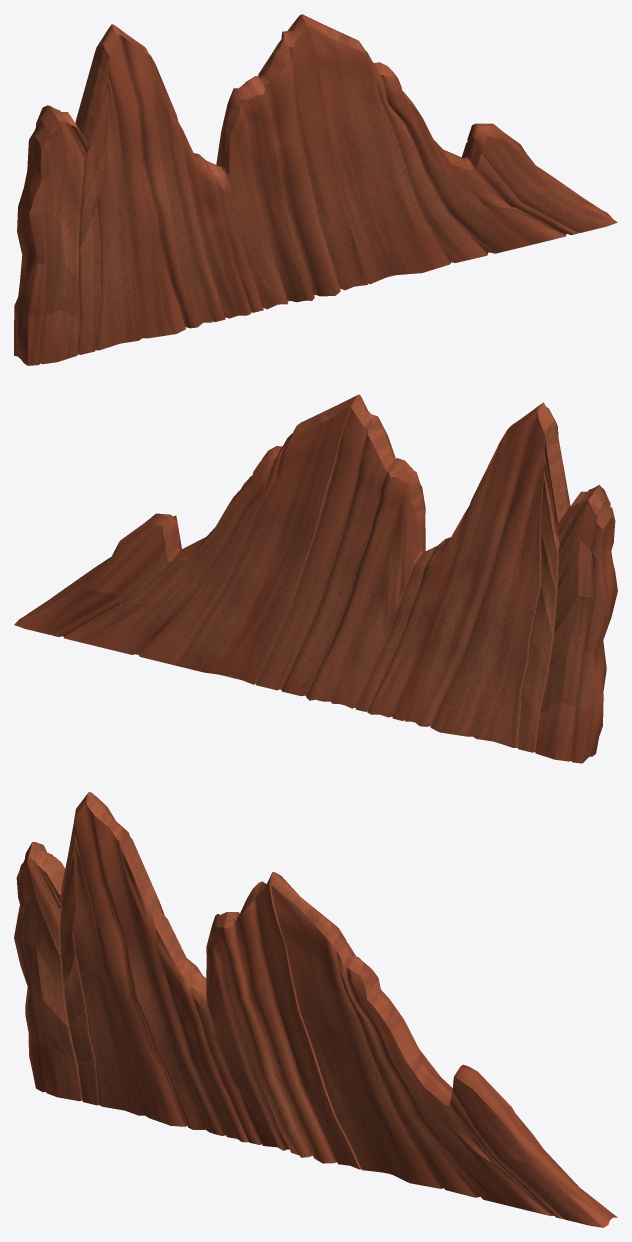
File: Desert_Stonewall_1.fbx
The picture shows the model from 3 angles, top to bottom: view 1: azimuth 30°, elevation 25°; view 2: azimuth 150°, elevation 25°; view 3: azimuth 330°, elevation 25°; orthographic projection. The views are drawn at different scales.
Parts seen in each view (by area): view 1: Stone_V1; view 2: Stone_V1; view 3: Stone_V1.
Part boxes in pixels (bbox=[...]): Stone_V1: bbox=[14, 14, 617, 365]; Stone_V1: bbox=[14, 394, 617, 763]; Stone_V1: bbox=[14, 792, 617, 1227].
Bounding box in the file's own units: 53.6 × 29.18 × 6.25.
